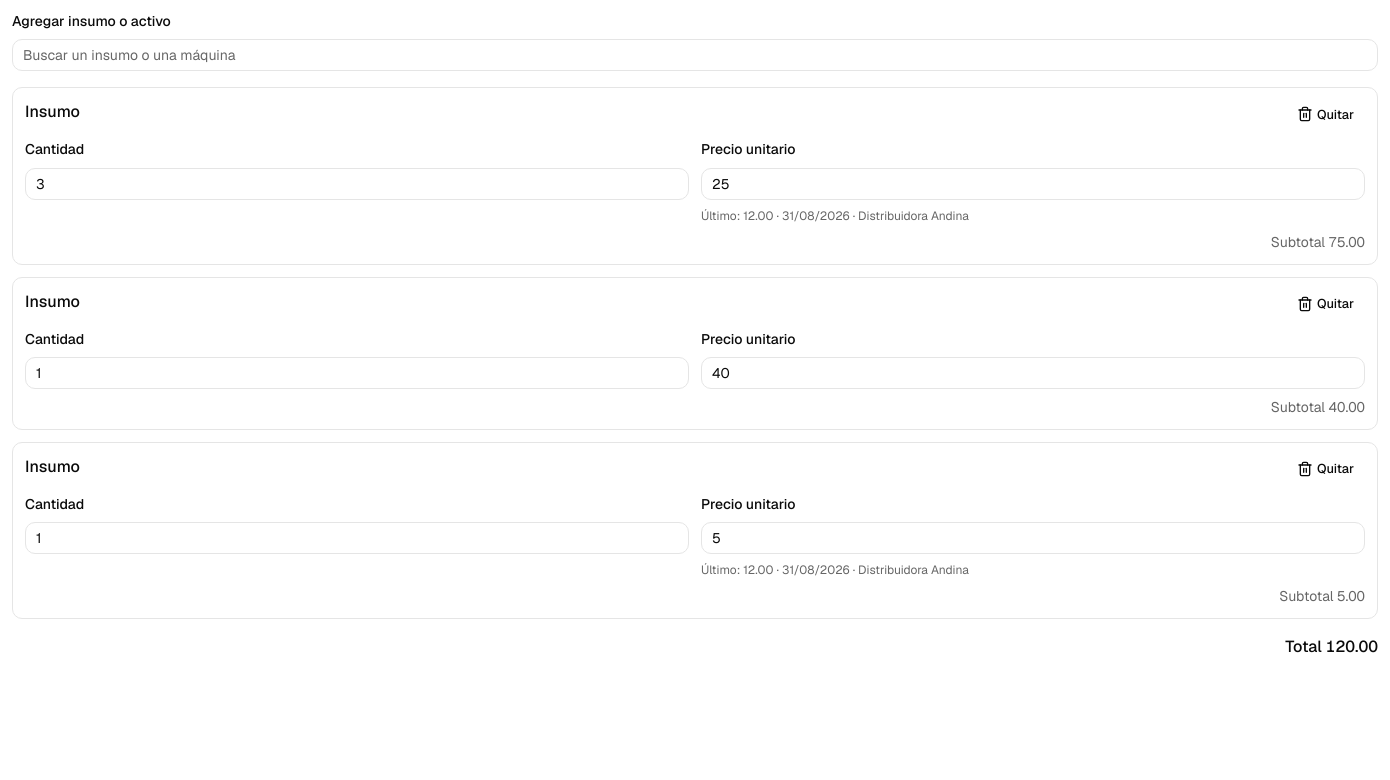
Test case: PurchaseLinesTable › quitar una fila recalcula el total
Expected: the text with test id "purchase-form-total" reads "120.00", x1=1326 y1=636 x2=1378 y2=657
Click the 3rd button "Quitar" at (1326, 469), box x1=1286 y1=455 x2=1365 y2=483
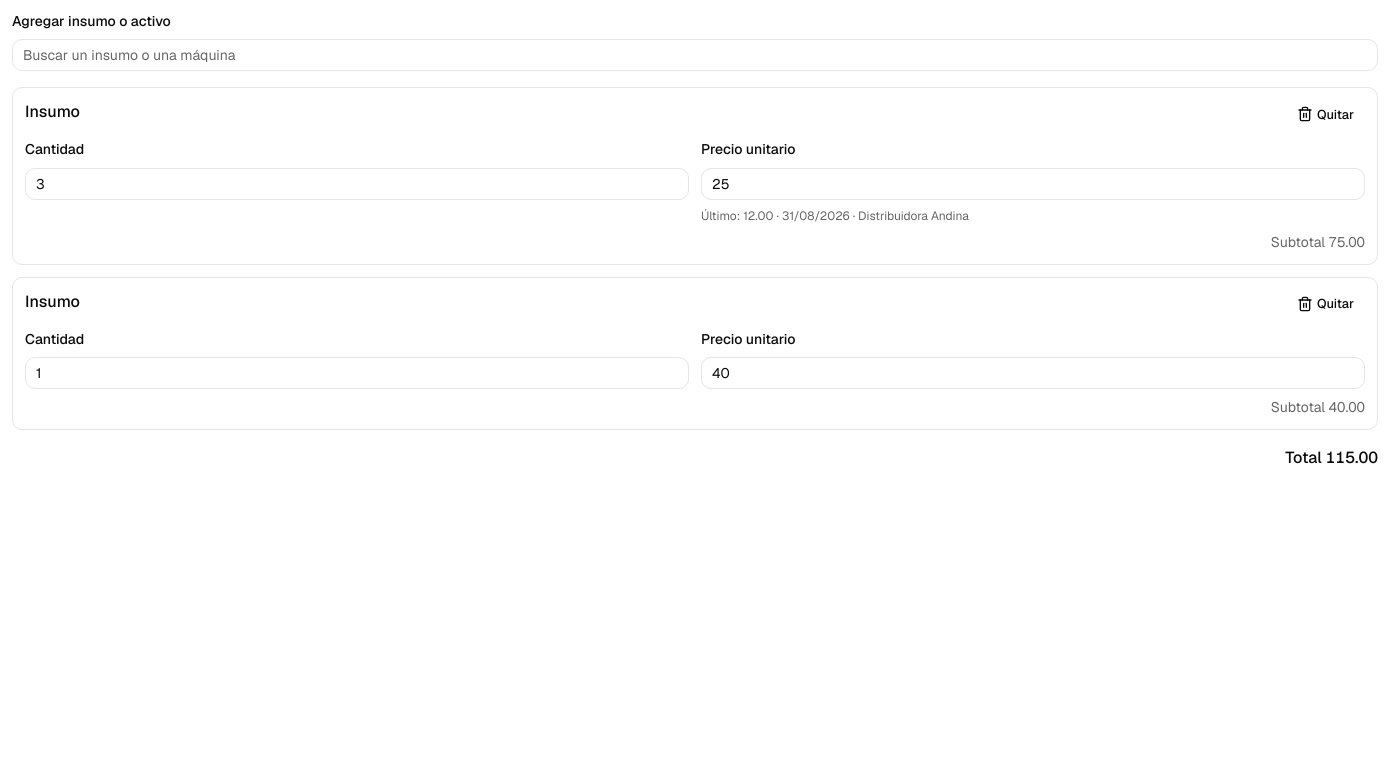
Now the number of list items with test id "purchase-line-row" is 2, box x1=12 y1=87 x2=1378 y2=265; x1=12 y1=276 x2=1378 y2=430
Now the text with test id "purchase-form-total" reads "115.00", box x1=1326 y1=447 x2=1378 y2=468
